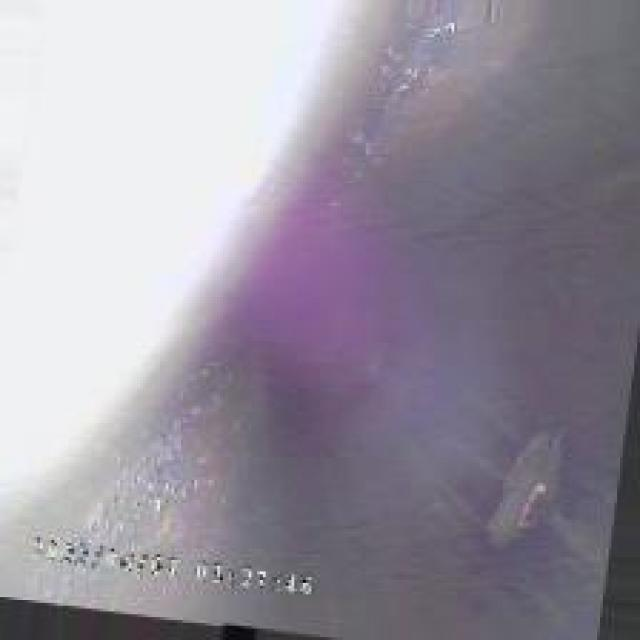ferrule: (483, 440, 568, 540)
